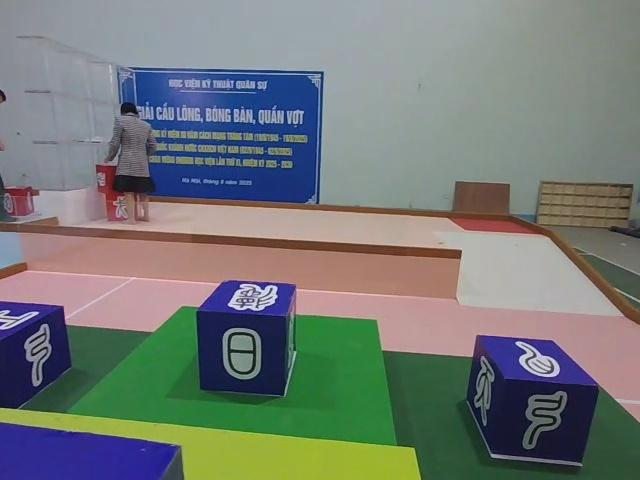R2 Fake Blue: (468, 336, 600, 471), (198, 280, 301, 398), (0, 305, 71, 413)
